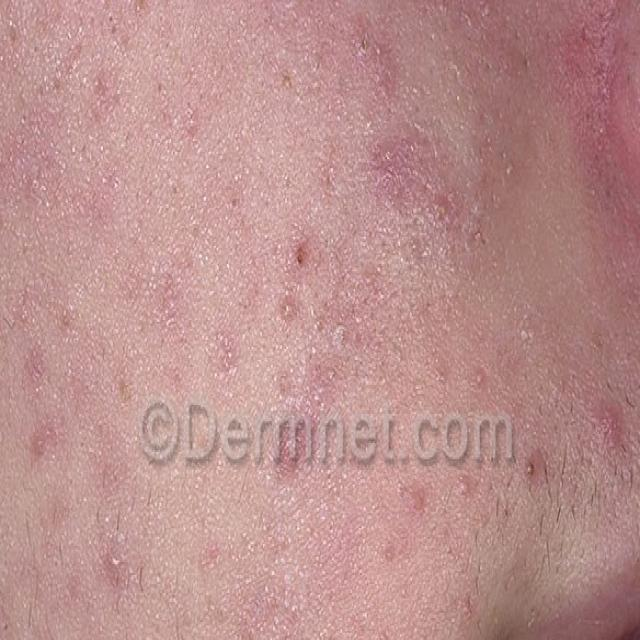Acne: (223, 158, 420, 416), (1, 276, 145, 622), (463, 361, 640, 490), (259, 436, 427, 570), (333, 14, 434, 113)
